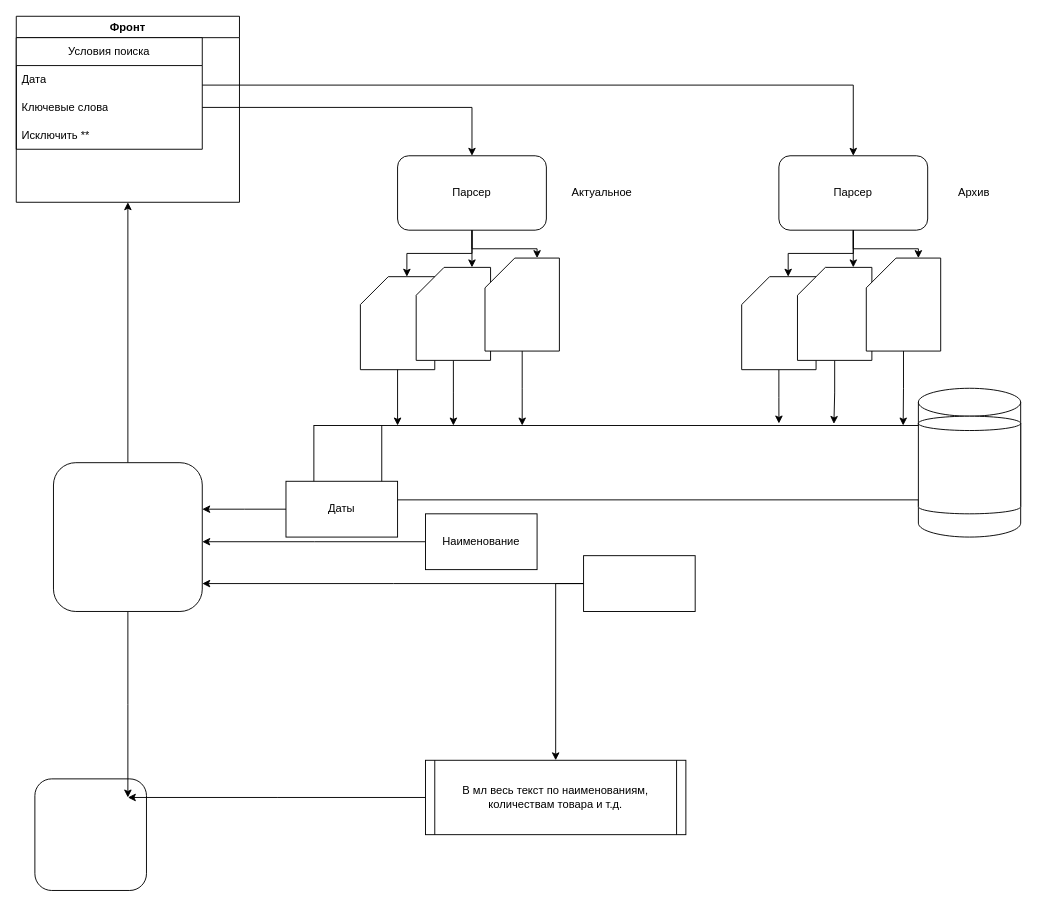
Image size: 1037x907. Some labels were removed from this diagram. Here are the shapes that lost their labels. From the top down, the centre of each, then its label:
[653,462]: Объединятор
[127,536]: Первичная инфа
[639,583]: Ссыль
[90,834]: Полноценный отчет
